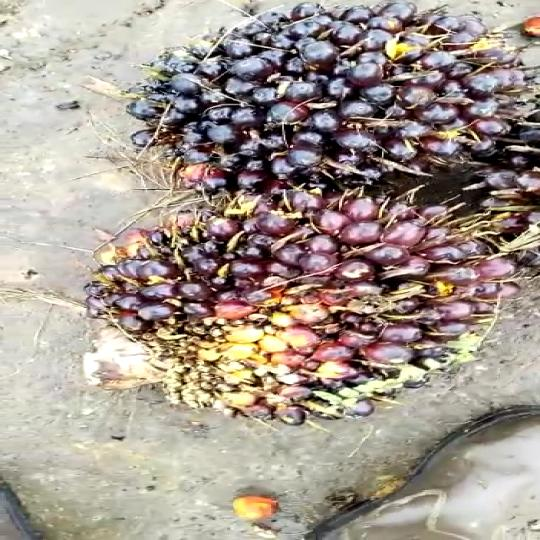mentah: (81, 180, 510, 426), (116, 0, 530, 190)
